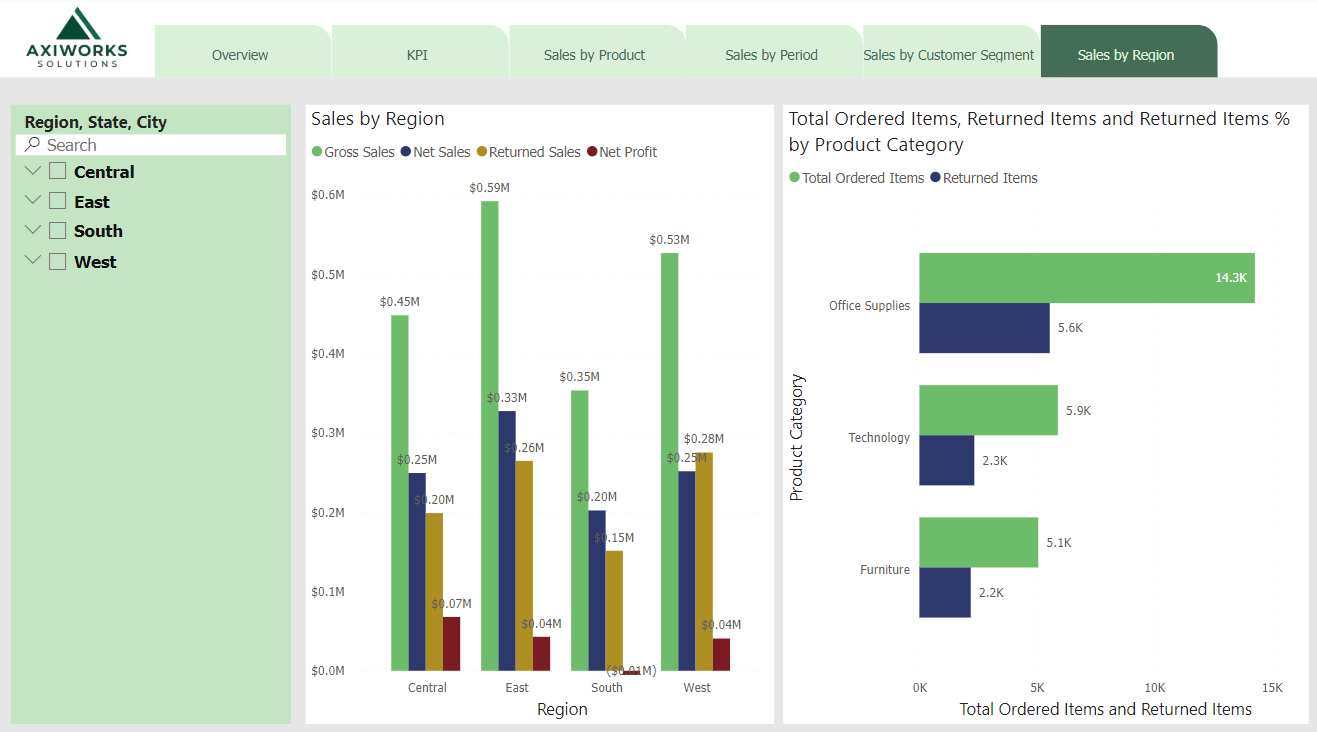

Layout of this report page (visuals, bound fields, positions):
{"tool":"powerbi","page":{"name":"Sales by Region","canvas":[1280,720],"ordinal":6},"visuals":[{"type":"shape","box":[0,78.3,1280.3,641.7],"z":0},{"type":"clusteredBarChart","fields":{"Category":["Orders.Product Category Hierarchy.Product Category","Orders.Product Category Hierarchy.Product Sub-Category","Orders.Product Category Hierarchy.Product Name"],"Y":["Sum(Orders.Quantity Ordered)","Orders.Returned Orders"]},"box":[759.1,105.3,506.9,597.9],"z":1000},{"type":"slicer","fields":{"Values":["Orders.Country Hierarchy.Region","Orders.Country Hierarchy.State or Province","Orders.Country Hierarchy.City"]},"box":[13,105.3,270.4,597.9],"z":2000},{"type":"clusteredColumnChart","title":"Sales by Region","fields":{"Category":["Orders.Country Hierarchy.Region","Orders.Country Hierarchy.State or Province","Orders.Country Hierarchy.City"],"Y":["Sum(Orders.Sales)","Orders.Sales Excluding Returns","Orders.Returned Sales Amount","Orders.Profit Excluding Returns"]},"box":[297.6,105.3,452.3,597.9],"z":3000},{"type":"pageNavigator","box":[151.9,27.5,1028.9,51.1],"z":4000},{"type":"image","box":[0,0,151.9,78.5],"z":5000}]}

Visuals, with their boxes in screenshot pixels (x1, y1, x2, y2), scaled from the page's 1280x720 canvas onto the 1317x732 screenshot:
shape: 0, 80, 1316, 731
clusteredBarChart - Orders.Product Category Hierarchy.Product Category x Orders.Product Category Hierarchy.Product Sub-Category: 781, 107, 1303, 715
slicer - Orders.Country Hierarchy.Region x Orders.Country Hierarchy.State or Province: 13, 107, 292, 715
"Sales by Region" clusteredColumnChart: 306, 107, 772, 715
pageNavigator: 156, 28, 1215, 80
image: 0, 0, 156, 80
